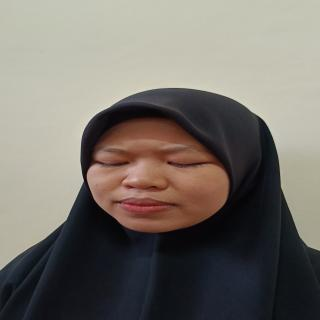Sedih: (74, 110, 249, 237)
